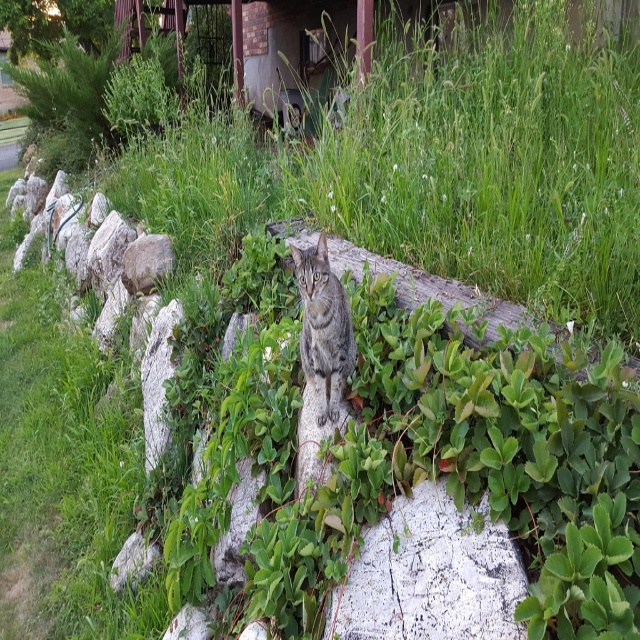Lynx: (288, 229, 357, 430)
